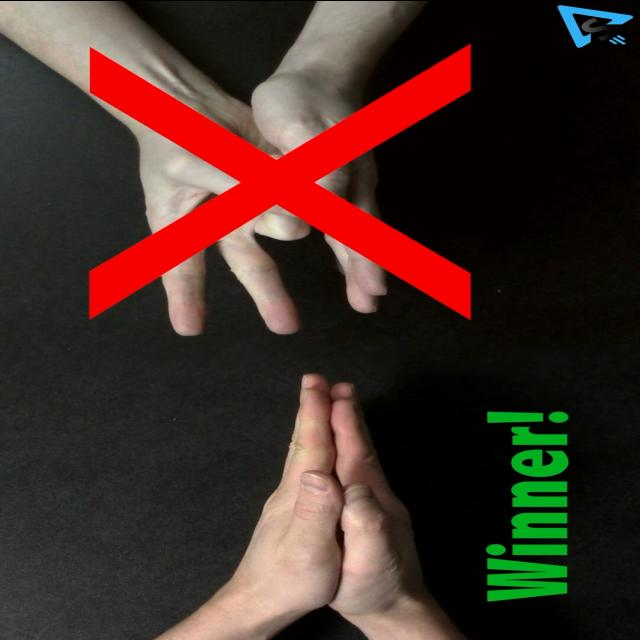Paper: (236, 373, 338, 609)
Scissors: (135, 91, 309, 334)
